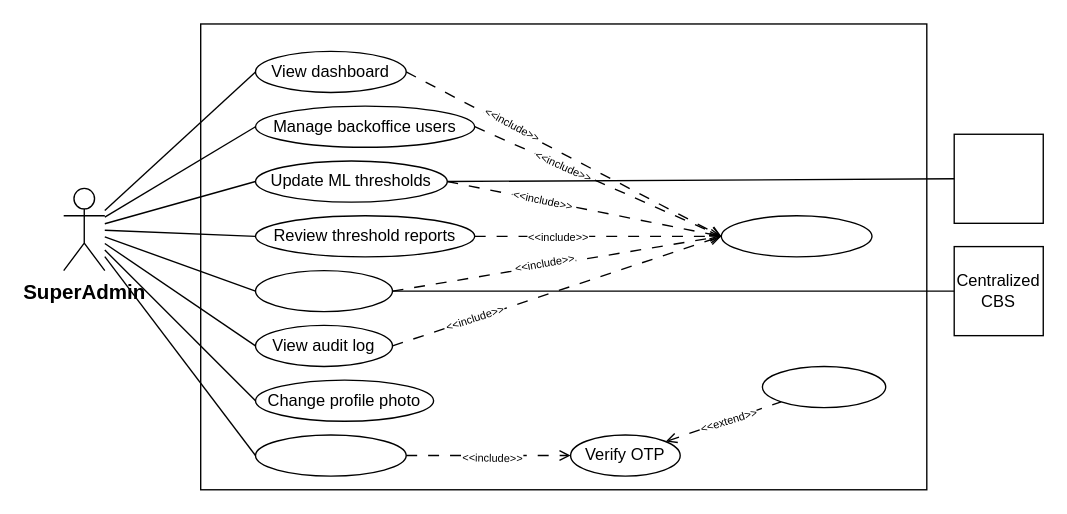
Some shapes in this 1067 by 514 pixel diagram are drawn without their labels. The shapes that lost their labels are listed below. From the top down, each one's centre as x and y in pixels, then its label:
At pixel 998 178: "ML model".
At pixel 796 235: "Authenticate".
At pixel 323 290: "Manage banks".
At pixel 823 386: "Resend OTP".
At pixel 330 455: "Reset password".
